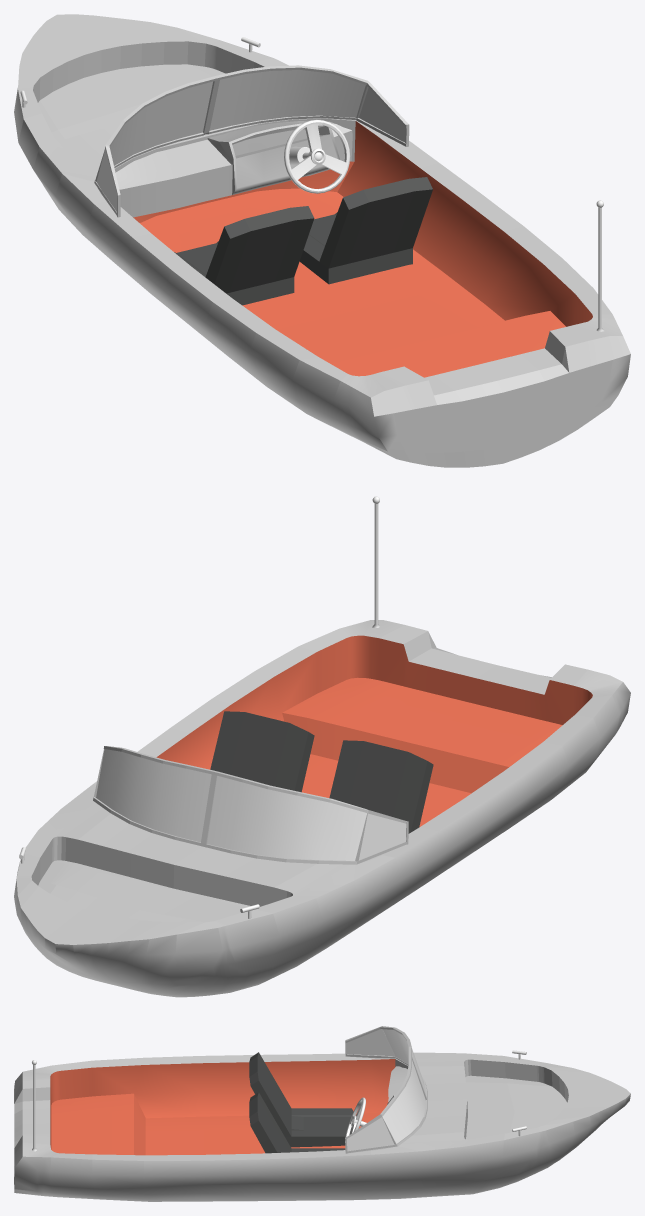
The model's file is Boat.fbx.
The picture shows the model from 3 angles, top to bottom: view 1: azimuth 30°, elevation 25°; view 2: azimuth 150°, elevation 25°; view 3: azimuth 270°, elevation 25°; orthographic projection. The views are drawn at different scales.
Parts seen in each view (by area): view 1: Body_geo, Inner_geo, seat_2, glass_geo, Stear_body_geo, Stear_geo; view 2: Body_geo, Inner_geo, glass_geo, seat_2; view 3: Body_geo, Inner_geo, seat_2, glass_geo, Stear_body_geo, Stear_geo, Stand_geo.
Part boxes in pixels (bbox=[...]): Body_geo: bbox=[14, 14, 630, 467]; Inner_geo: bbox=[133, 121, 592, 377]; seat_2: bbox=[174, 177, 432, 305]; glass_geo: bbox=[96, 70, 405, 211]; Stear_body_geo: bbox=[115, 121, 352, 217]; Stear_geo: bbox=[284, 119, 350, 193]; Body_geo: bbox=[14, 620, 630, 997]; Inner_geo: bbox=[156, 635, 592, 827]; glass_geo: bbox=[96, 749, 406, 862]; seat_2: bbox=[210, 711, 433, 833]; Body_geo: bbox=[14, 1026, 630, 1201]; Inner_geo: bbox=[50, 1059, 395, 1155]; seat_2: bbox=[249, 1052, 353, 1153]; glass_geo: bbox=[347, 1029, 425, 1153]; Stear_body_geo: bbox=[387, 1066, 407, 1104]; Stear_geo: bbox=[345, 1097, 366, 1142]; Stand_geo: bbox=[32, 1060, 36, 1151].
Bounding box in the file's own units: 292 × 199 × 693.
